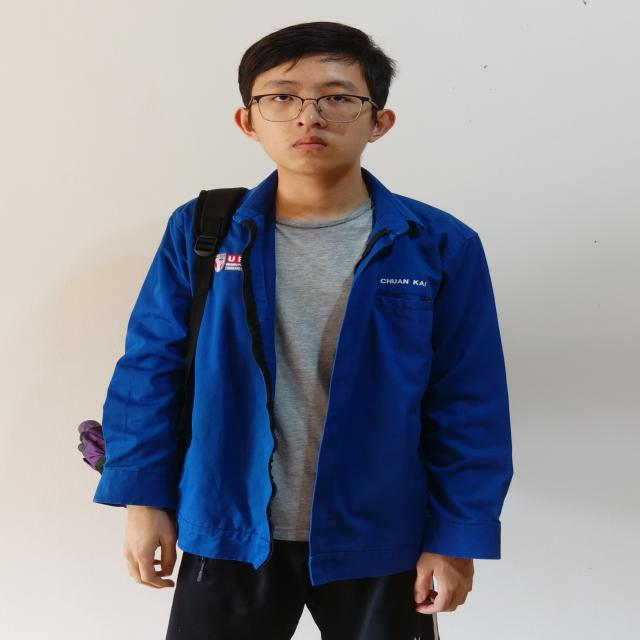person_with_labcoat: (79, 22, 512, 640)
